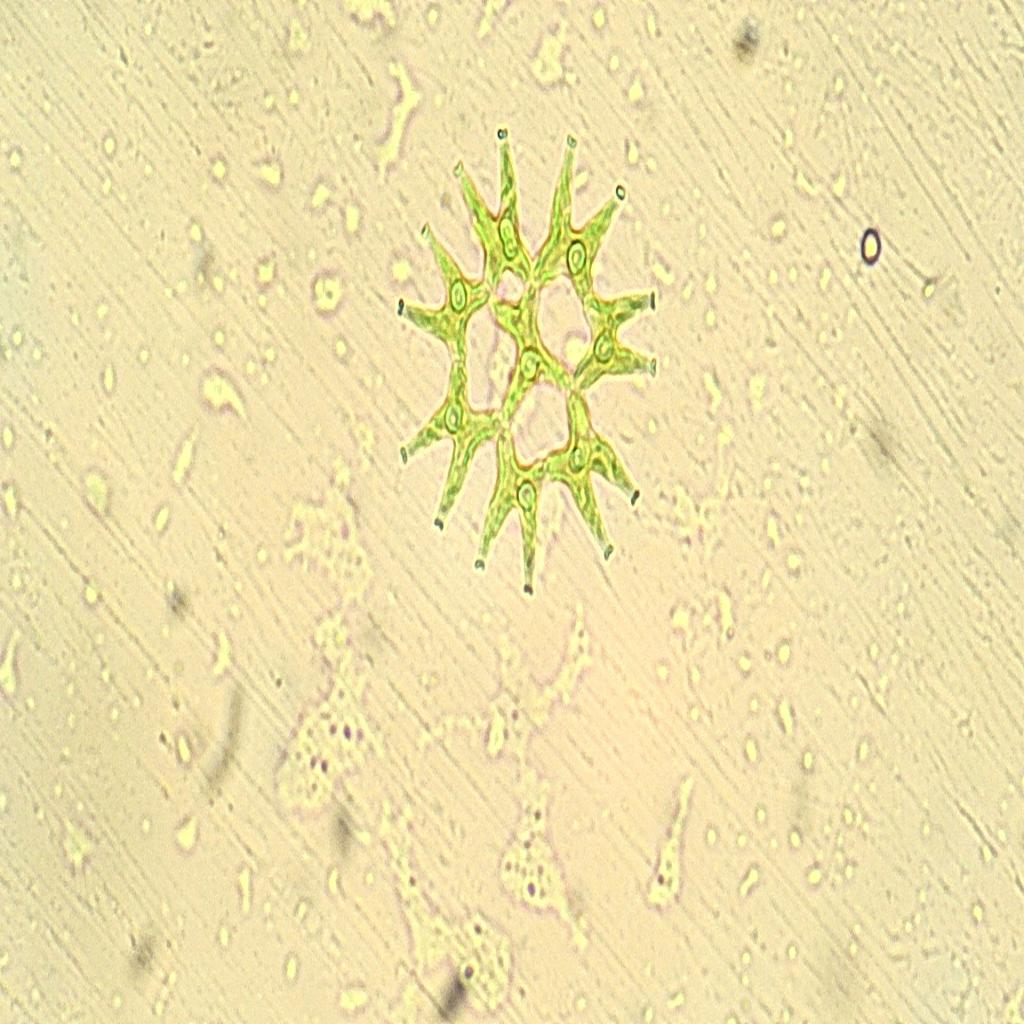Pediastrum_75T: (393, 100, 672, 625)
